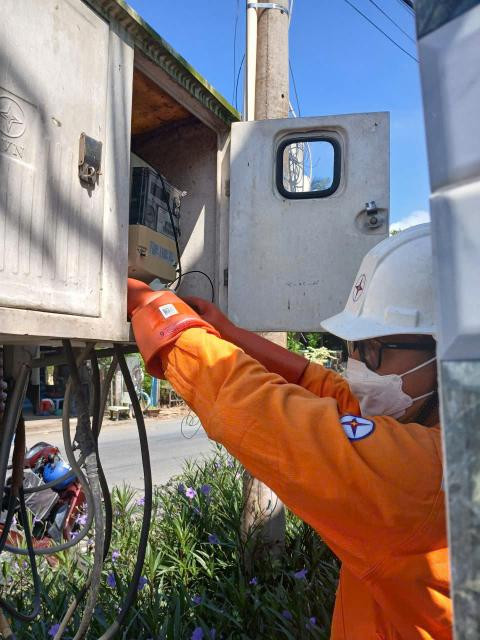gloves: (175, 275, 318, 420), (103, 258, 219, 371)
helmet: (301, 198, 455, 384)
